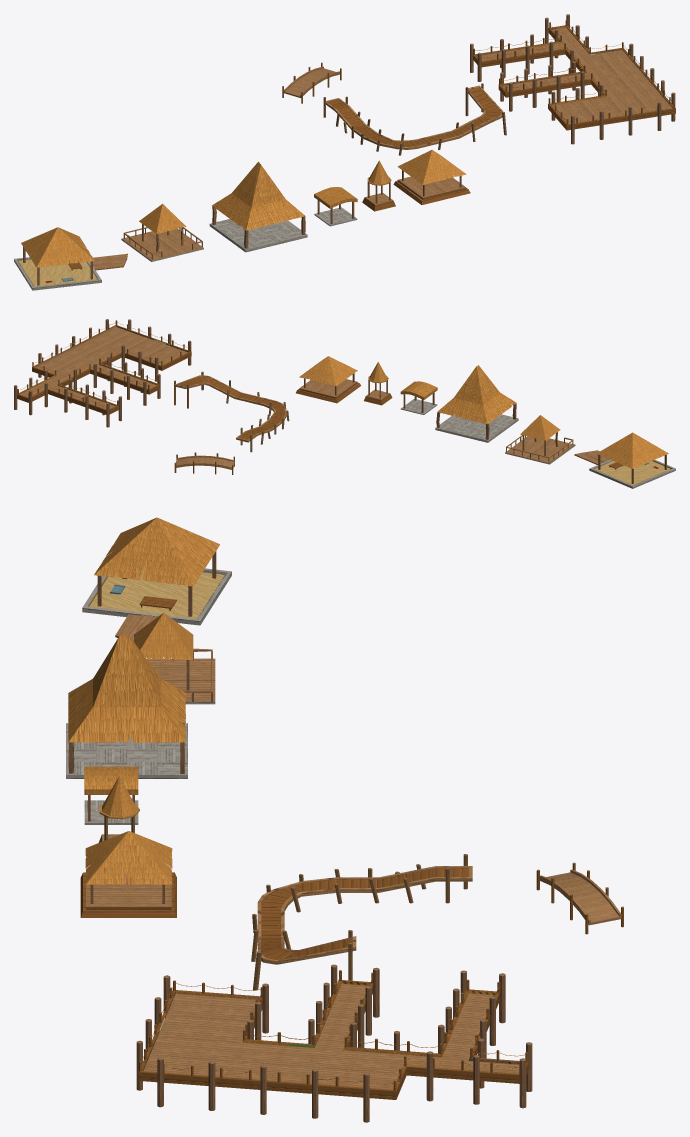
File: envi4.fbx
3 views of the same model, one above another, from view 1: azimuth 30°, elevation 25°; view 2: azimuth 150°, elevation 25°; view 3: azimuth 270°, elevation 25° (orthographic). The views are drawn at different scales.
Visible parts, largest first — view 1: defaultMaterial.012, defaultMaterial.005, defaultMaterial.007, defaultMaterial.013, defaultMaterial.003, defaultMaterial.006, defaultMaterial.004, defaultMaterial.009, defaultMaterial.002; view 2: defaultMaterial.012, defaultMaterial.005, defaultMaterial.007, defaultMaterial.013, defaultMaterial.003, defaultMaterial.006, defaultMaterial.004, defaultMaterial.009, defaultMaterial.002; view 3: defaultMaterial.012, defaultMaterial.005, defaultMaterial.007, defaultMaterial.013, defaultMaterial.003, defaultMaterial.006, defaultMaterial.009, defaultMaterial.004, defaultMaterial.002.
Boxes of the visible parts, bbox=[...] form: defaultMaterial.012: bbox=[470, 14, 675, 144]; defaultMaterial.005: bbox=[209, 161, 307, 252]; defaultMaterial.007: bbox=[14, 227, 127, 290]; defaultMaterial.013: bbox=[323, 83, 506, 155]; defaultMaterial.003: bbox=[393, 149, 470, 204]; defaultMaterial.006: bbox=[121, 203, 203, 261]; defaultMaterial.004: bbox=[314, 187, 357, 226]; defaultMaterial.009: bbox=[282, 62, 341, 103]; defaultMaterial.002: bbox=[362, 160, 395, 211]; defaultMaterial.012: bbox=[14, 319, 191, 427]; defaultMaterial.005: bbox=[435, 365, 518, 442]; defaultMaterial.007: bbox=[574, 432, 675, 488]; defaultMaterial.013: bbox=[174, 371, 289, 452]; defaultMaterial.003: bbox=[296, 356, 360, 403]; defaultMaterial.006: bbox=[505, 415, 575, 464]; defaultMaterial.004: bbox=[400, 381, 437, 414]; defaultMaterial.009: bbox=[174, 452, 234, 474]; defaultMaterial.002: bbox=[364, 362, 392, 405]; defaultMaterial.012: bbox=[136, 964, 532, 1122]; defaultMaterial.005: bbox=[66, 634, 187, 778]; defaultMaterial.007: bbox=[82, 517, 231, 641]; defaultMaterial.013: bbox=[251, 854, 472, 990]; defaultMaterial.003: bbox=[80, 831, 176, 917]; defaultMaterial.006: bbox=[134, 612, 215, 704]; defaultMaterial.009: bbox=[536, 862, 623, 934]; defaultMaterial.004: bbox=[84, 766, 138, 824]; defaultMaterial.002: bbox=[98, 776, 139, 842].
Size of the model in its own units: 6341 by 628 by 2670.
1 material, 1 textured.
